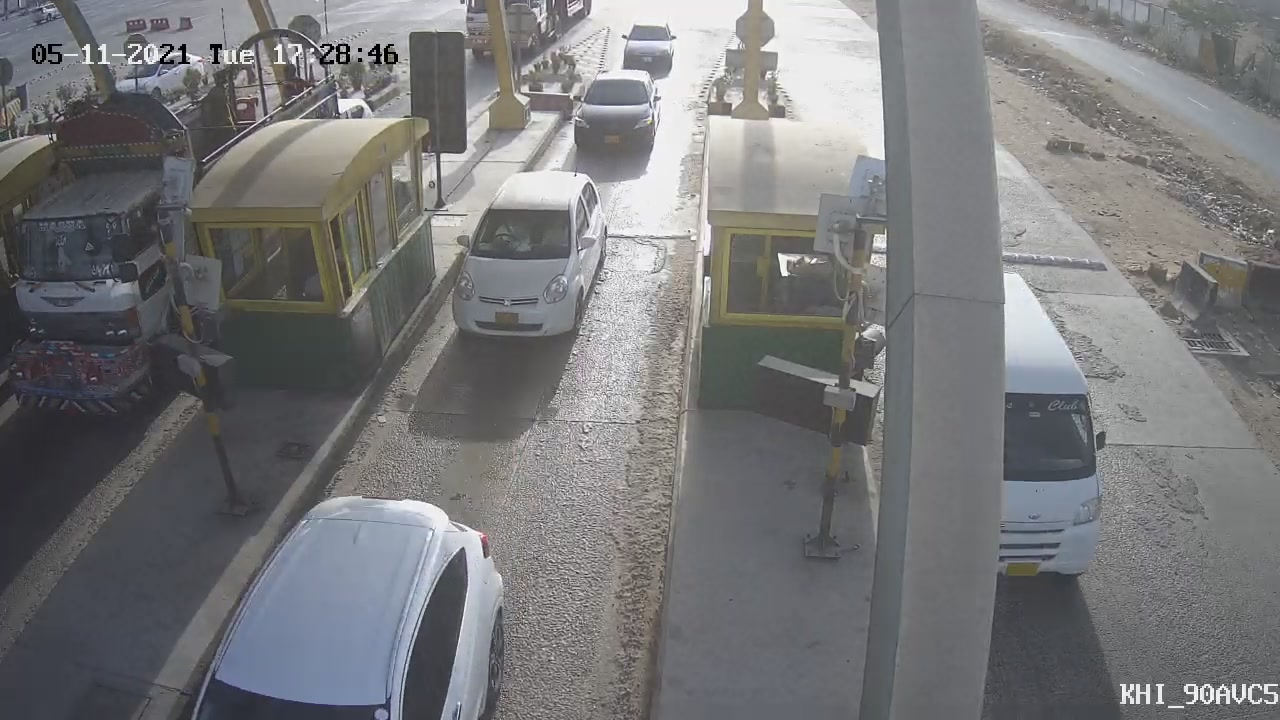F1: (438, 152, 616, 355), (556, 57, 669, 168)
